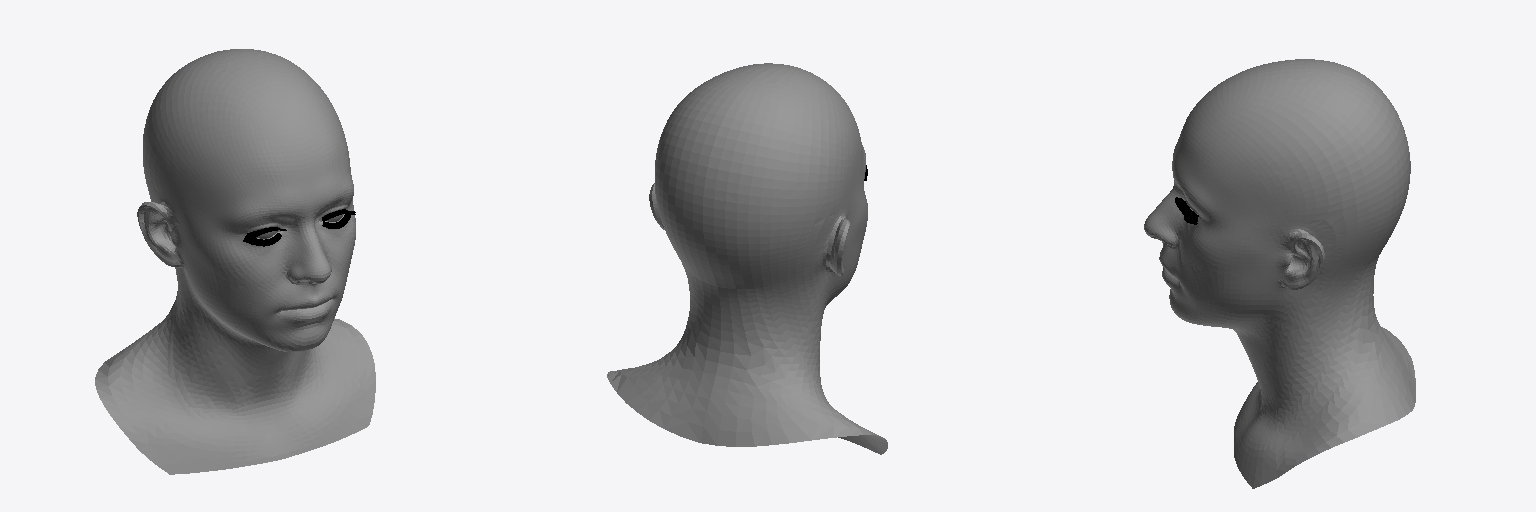
The model's file is identity027.obj.
3 views of the same model, side by side, from view 1: azimuth 30°, elevation 25°; view 2: azimuth 150°, elevation 25°; view 3: azimuth 270°, elevation 25° (orthographic).
Size of the model in its own units: 24.87 by 33.83 by 22.26.